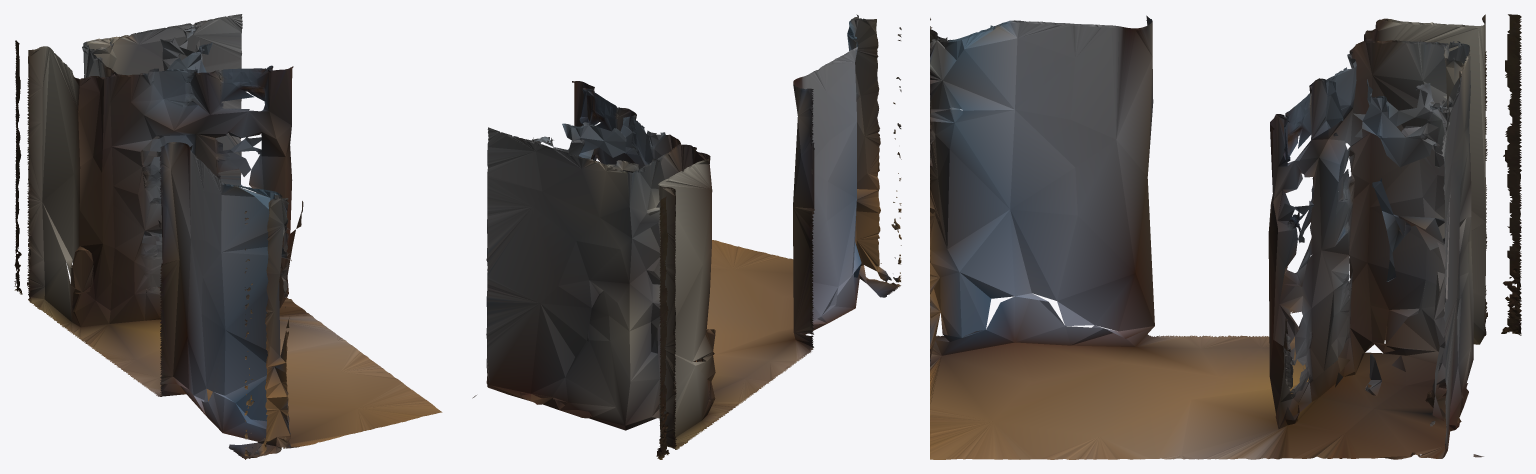
File: coarse.glb
The picture shows the model from 3 angles, left to right: view 1: azimuth 30°, elevation 25°; view 2: azimuth 150°, elevation 25°; view 3: azimuth 270°, elevation 25°; orthographic projection. The views are drawn at different scales.
Size of the model in its own units: 1.07 by 1.34 by 2.17.
